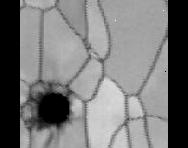good_void: (25, 81, 72, 128)
